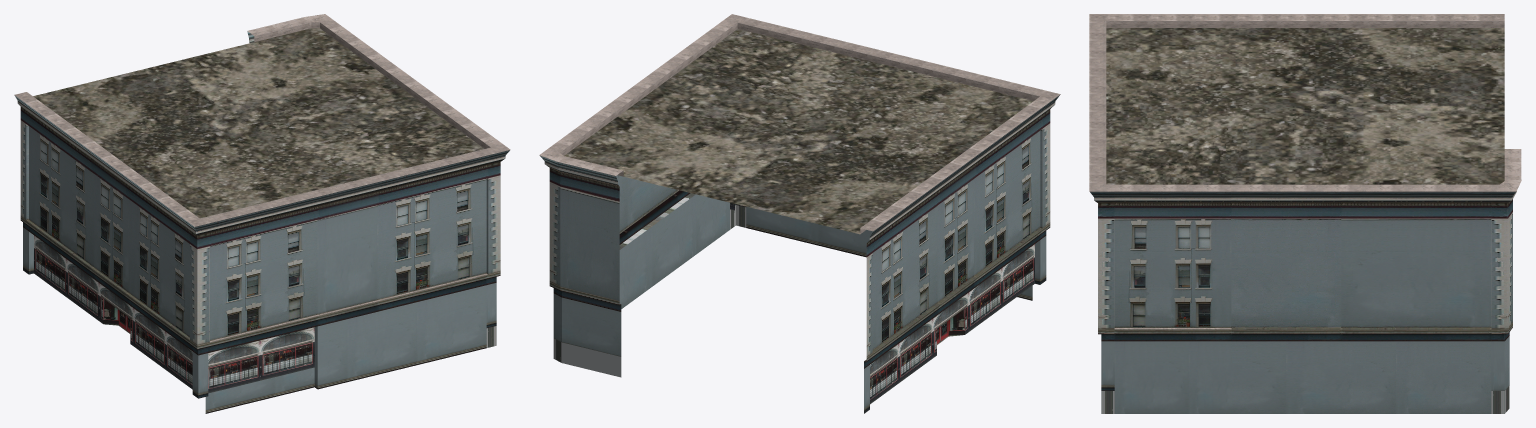
Rendered from scum_sfs.obj.
The picture shows the model from 3 angles, left to right: view 1: azimuth 30°, elevation 25°; view 2: azimuth 150°, elevation 25°; view 3: azimuth 270°, elevation 25°; orthographic projection. The views are drawn at different scales.
Parts seen in each view (by area): view 1: scum_SFS; view 2: scum_SFS; view 3: scum_SFS.
Part boxes in pixels (box(x1,y1,x2,y2)): scum_SFS: box(14, 14, 510, 413); scum_SFS: box(539, 14, 1060, 413); scum_SFS: box(1089, 14, 1521, 413).
Size of the model in its own units: 37.8 by 22.57 by 38.86.
Materials: 7 (7 with a texture image).
